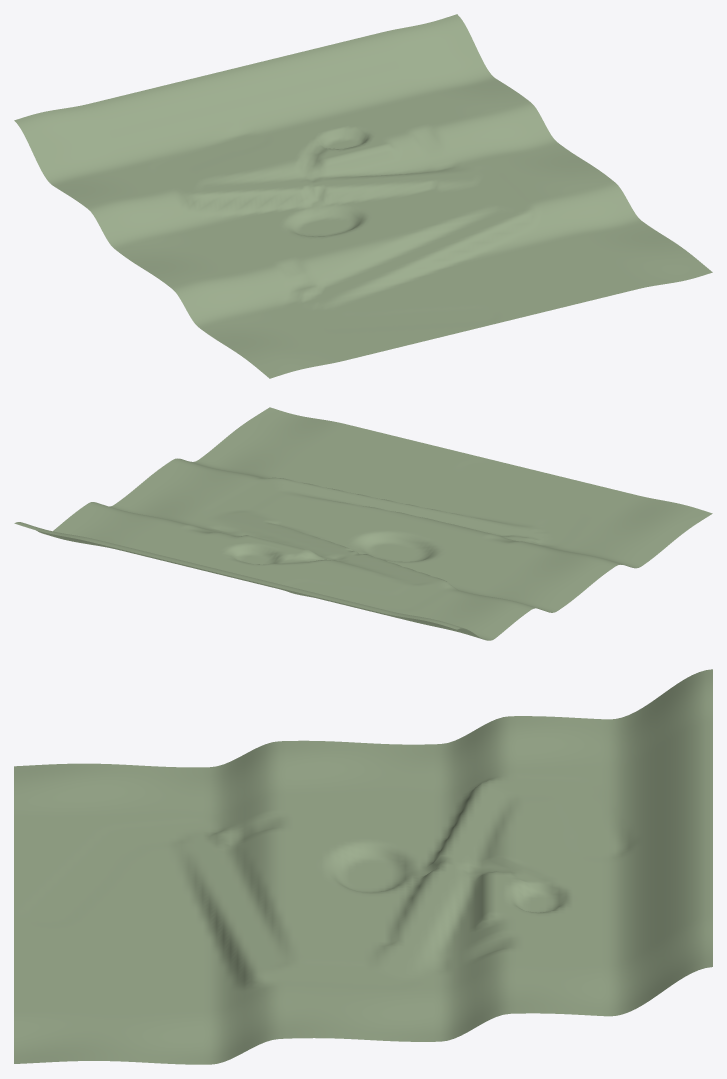
The model's file is SM_Terrain.fbx.
3 renders of one model, top to bottom at view 1: azimuth 30°, elevation 25°; view 2: azimuth 150°, elevation 25°; view 3: azimuth 270°, elevation 25°, orthographic. The views are drawn at different scales.
Visible parts, largest first — view 1: SM_Terrain; view 2: SM_Terrain; view 3: SM_Terrain.
Part boxes in pixels (bbox=[...]): SM_Terrain: bbox=[14, 14, 712, 378]; SM_Terrain: bbox=[14, 407, 712, 640]; SM_Terrain: bbox=[14, 669, 712, 1064].
Bounding box in the file's own units: 10000 × 10000 × 1632.
